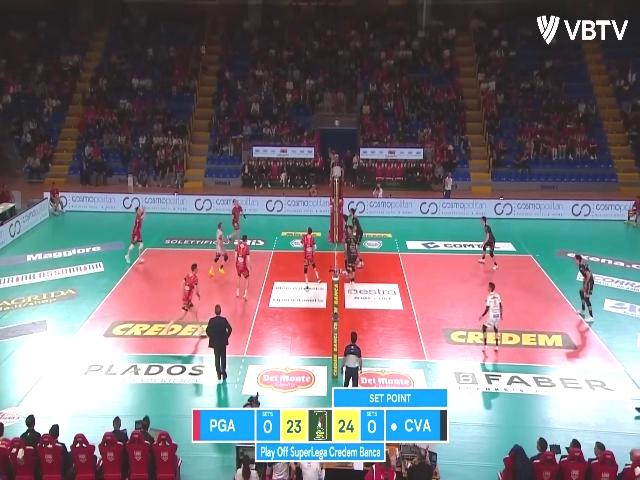volleyball court: (68, 245, 625, 370)
